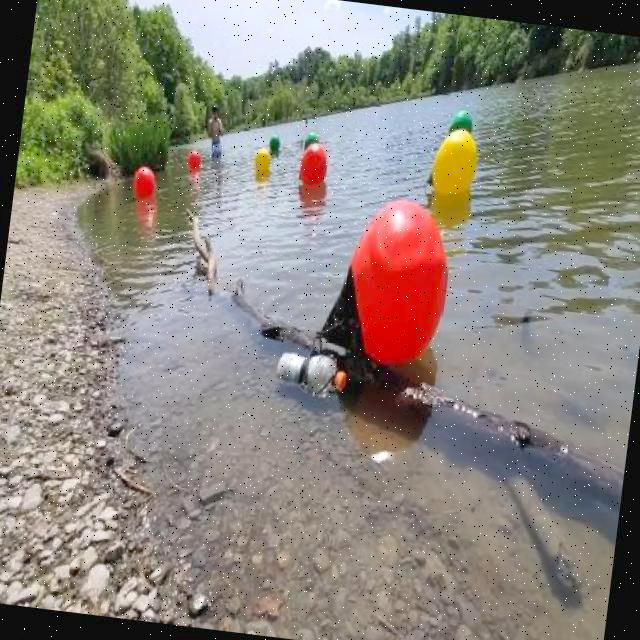buoy: (316, 188, 457, 374), (421, 124, 482, 201), (292, 140, 330, 188), (130, 163, 158, 200), (446, 105, 474, 140), (252, 146, 272, 172), (186, 148, 202, 170), (304, 132, 320, 154), (268, 132, 281, 152)
